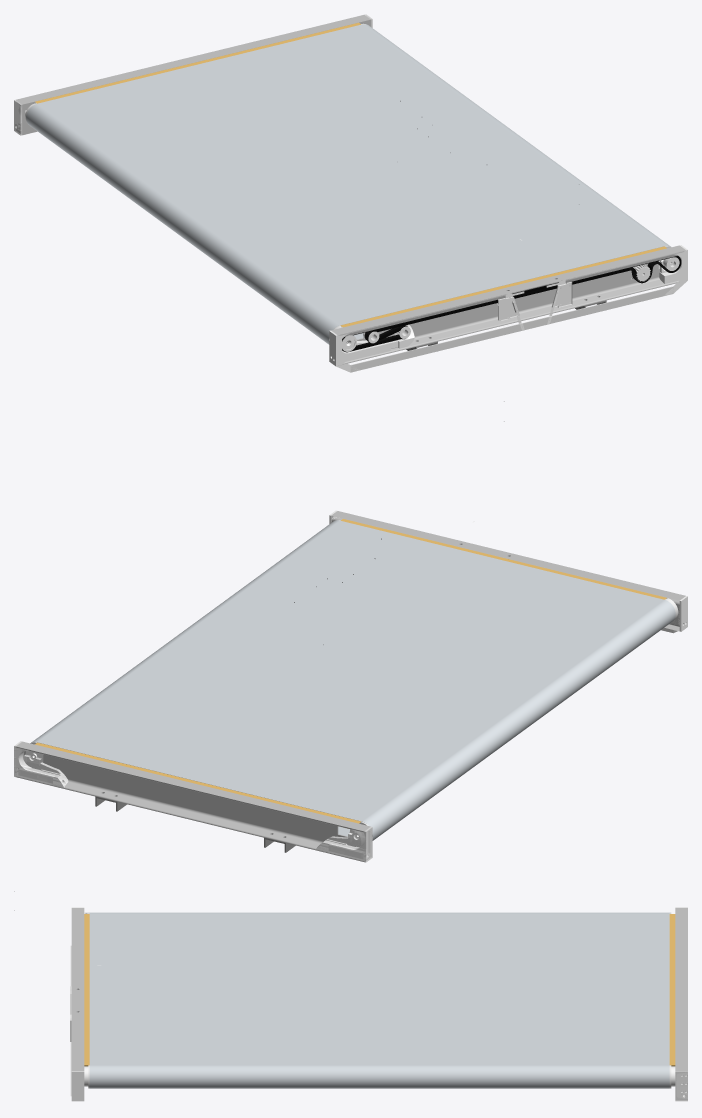
3 views of the same model, one above another, from view 1: azimuth 30°, elevation 25°; view 2: azimuth 150°, elevation 25°; view 3: azimuth 270°, elevation 25° (orthographic). The views are drawn at different scales.
Parts seen in each view (by area): view 1: mesh25_meshnode_25.001, mesh23_meshnode_23.001, mesh40_meshnode_40.001, mesh83_meshnode_83.001, mesh43_meshnode_43.001, mesh813_meshnode_813.001, mesh10_meshnode_10.001, mesh1684_meshnode_1684, mesh22_meshnode_22.001, mesh69_meshnode_69.001, mesh52_meshnode_52.001, mesh41_meshnode_41.001 (+1 smaller); view 2: mesh25_meshnode_25.001, mesh23_meshnode_23.001, mesh89_meshnode_89.001, mesh43_meshnode_43.001, mesh83_meshnode_83.001, mesh10_meshnode_10.001, mesh79_meshnode_79.001, mesh22_meshnode_22.001, mesh80_meshnode_80.001, mesh78_meshnode_78.001; view 3: mesh25_meshnode_25.001, mesh22_meshnode_22.001, mesh43_meshnode_43.001, mesh83_meshnode_83.001, mesh10_meshnode_10.001, mesh23_meshnode_23.001, mesh2507_meshnode_2507, mesh2832_meshnode_2832.
Boxes of the visible parts, <box> form: mesh25_meshnode_25.001: <box>38,24,664,325</box>; mesh23_meshnode_23.001: <box>26,103,339,344</box>; mesh40_meshnode_40.001: <box>357,263,659,340</box>; mesh83_meshnode_83.001: <box>16,14,370,104</box>; mesh43_meshnode_43.001: <box>331,245,685,335</box>; mesh813_meshnode_813.001: <box>351,287,673,371</box>; mesh10_meshnode_10.001: <box>35,22,666,327</box>; mesh1684_meshnode_1684: <box>342,255,681,352</box>; mesh22_meshnode_22.001: <box>362,24,670,246</box>; mesh69_meshnode_69.001: <box>348,280,663,361</box>; mesh52_meshnode_52.001: <box>344,280,678,363</box>; mesh41_meshnode_41.001: <box>414,277,659,339</box>; mesh25_meshnode_25.001: <box>38,520,664,821</box>; mesh23_meshnode_23.001: <box>362,600,675,840</box>; mesh89_meshnode_89.001: <box>23,751,369,852</box>; mesh43_meshnode_43.001: <box>331,511,685,600</box>; mesh83_meshnode_83.001: <box>16,741,370,831</box>; mesh10_meshnode_10.001: <box>35,519,666,823</box>; mesh79_meshnode_79.001: <box>60,782,365,859</box>; mesh22_meshnode_22.001: <box>31,520,339,742</box>; mesh80_meshnode_80.001: <box>64,779,369,854</box>; mesh78_meshnode_78.001: <box>16,776,363,861</box>; mesh25_meshnode_25.001: <box>89,913,669,1065</box>; mesh22_meshnode_22.001: <box>89,1065,669,1088</box>; mesh43_meshnode_43.001: <box>71,908,84,1070</box>; mesh83_meshnode_83.001: <box>675,908,687,1070</box>; mesh10_meshnode_10.001: <box>84,914,675,1065</box>; mesh23_meshnode_23.001: <box>89,912,669,913</box>; mesh2507_meshnode_2507: <box>71,1071,84,1101</box>; mesh2832_meshnode_2832: <box>675,1071,687,1101</box>.
Bounding box in the file's own units: 1.22 × 0.5505 × 2.11.
